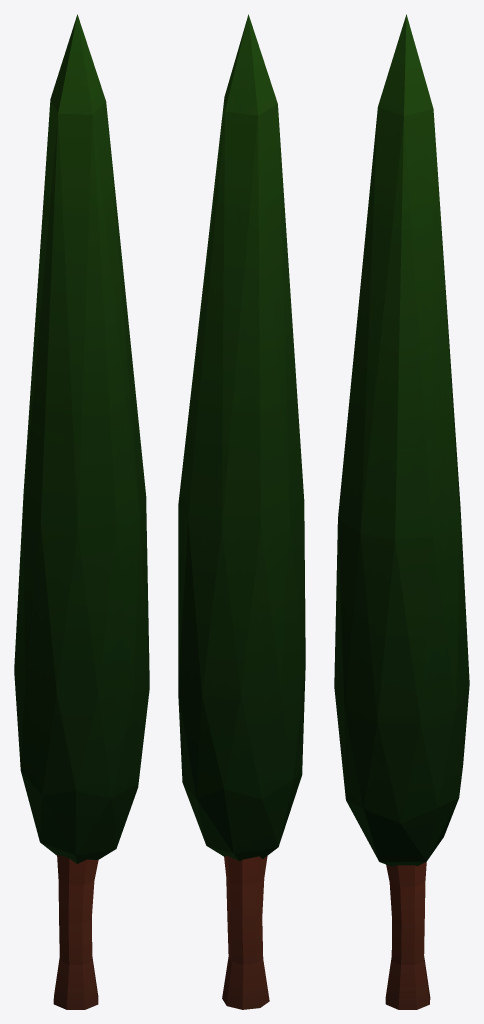
File: FBX_TreeCypress.fbx
The picture shows the model from 3 angles, left to right: view 1: azimuth 90°, elevation 25°; view 2: azimuth 150°, elevation 25°; view 3: azimuth 270°, elevation 25°; orthographic projection.
Parts seen in each view (by area): view 1: M_TreeCypress; view 2: M_TreeCypress; view 3: M_TreeCypress.
Part boxes in pixels (box(x1,y1,x2,y2)): M_TreeCypress: box(14, 14, 149, 1009); M_TreeCypress: box(178, 14, 305, 1009); M_TreeCypress: box(334, 14, 469, 1009).
Bounding box in the file's own units: 0.7477 × 6.25 × 0.7779.
